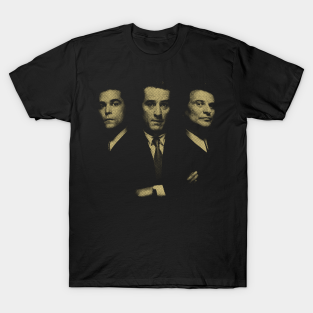design: (96, 84, 217, 200)
